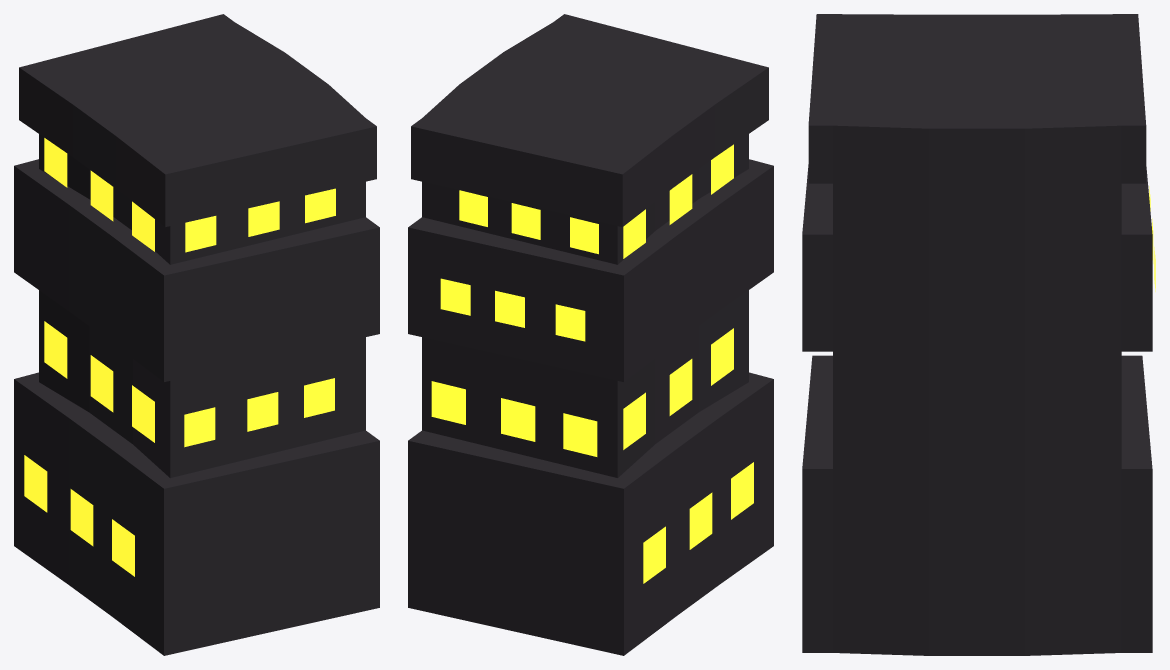
Rendered from skyscraper1.glb.
3 renders of one model, left to right at view 1: azimuth 30°, elevation 25°; view 2: azimuth 150°, elevation 25°; view 3: azimuth 270°, elevation 25°, orthographic. The views are drawn at different scales.
Parts seen in each view (by area): view 1: Cube.003, Plane.004, Plane.008, Plane.002, Plane.009; view 2: Cube.003, Plane.004, Plane.006, Plane.002, Plane.003, Plane.007; view 3: Cube.003.
Part boxes in pixels (x1=…): Cube.003: x1=14, y1=14, x2=379, y2=655; Plane.004: x1=44, y1=138, x2=154, y2=442; Plane.008: x1=184, y1=378, x2=334, y2=447; Plane.002: x1=24, y1=455, x2=134, y2=576; Plane.009: x1=185, y1=188, x2=335, y2=252; Cube.003: x1=408, y1=14, x2=773, y2=655; Plane.004: x1=623, y1=144, x2=733, y2=449; Plane.006: x1=431, y1=381, x2=597, y2=456; Plane.002: x1=643, y1=462, x2=753, y2=583; Plane.003: x1=440, y1=278, x2=585, y2=341; Plane.007: x1=459, y1=190, x2=598, y2=254; Cube.003: x1=802, y1=14, x2=1152, y2=655.
Bounding box in the file's own units: 5.37 × 11.09 × 6.74.
